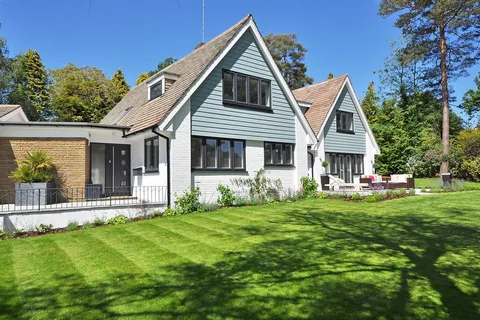private_hause: (98, 15, 330, 198)
